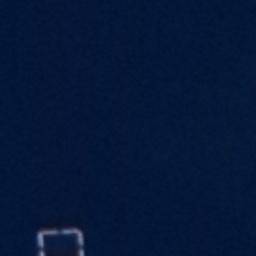square_solid: (32, 224, 90, 256)
